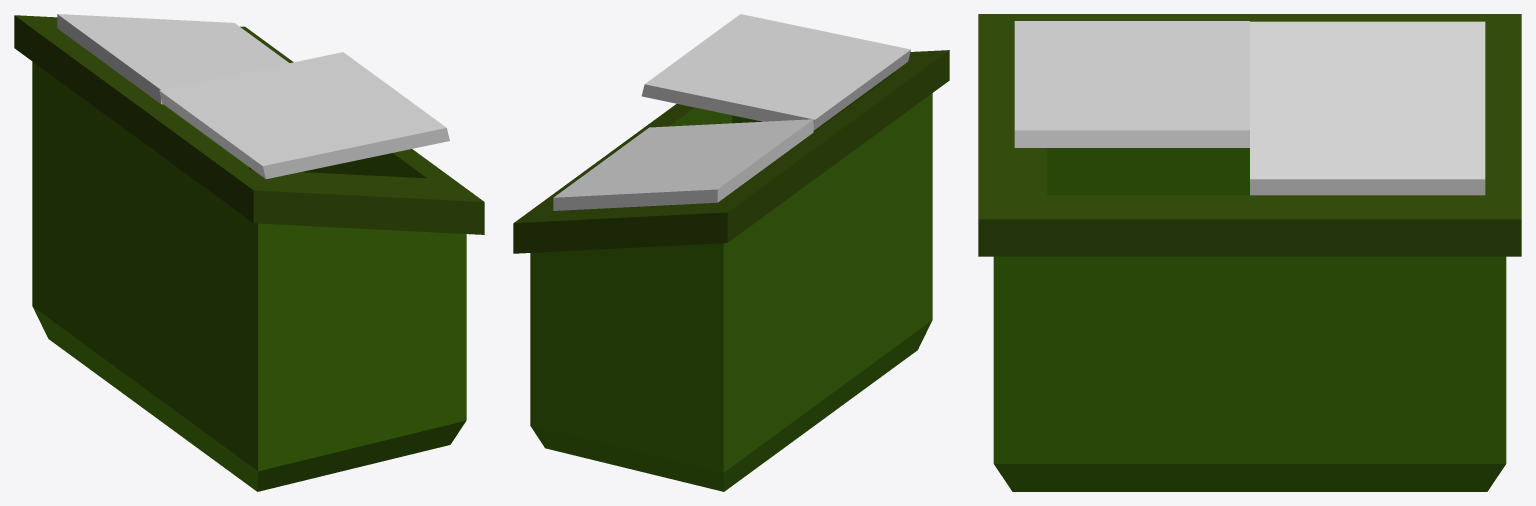
The model's file is Dumpster.fbx.
The picture shows the model from 3 angles, left to right: view 1: azimuth 30°, elevation 25°; view 2: azimuth 150°, elevation 25°; view 3: azimuth 270°, elevation 25°; orthographic projection. The views are drawn at different scales.
Visible parts, largest first — view 1: Cube, Cube.001, Cube.002; view 2: Cube, Cube.001, Cube.002; view 3: Cube, Cube.002, Cube.001.
Boxes of the visible parts, bbox=[...] form: Cube: bbox=[14, 15, 484, 491]; Cube.001: bbox=[159, 52, 449, 179]; Cube.002: bbox=[57, 14, 289, 104]; Cube: bbox=[513, 50, 949, 491]; Cube.001: bbox=[641, 14, 910, 130]; Cube.002: bbox=[553, 119, 813, 210]; Cube: bbox=[978, 14, 1521, 491]; Cube.002: bbox=[1250, 21, 1485, 195]; Cube.001: bbox=[1014, 21, 1249, 147].
Bounding box in the file's own units: 236 × 317 × 424.
